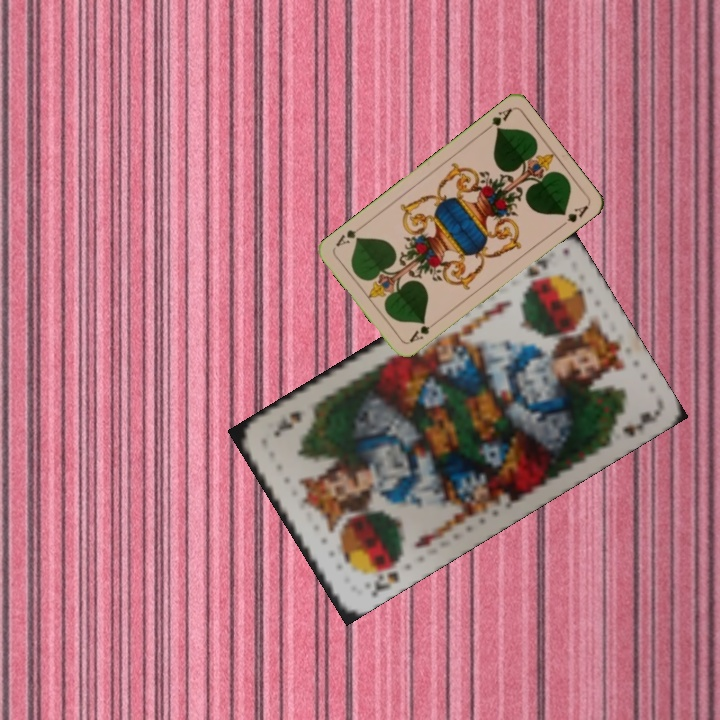GA: (480, 104, 514, 135), (405, 317, 440, 345)
SK: (366, 552, 403, 599), (520, 254, 552, 281)
